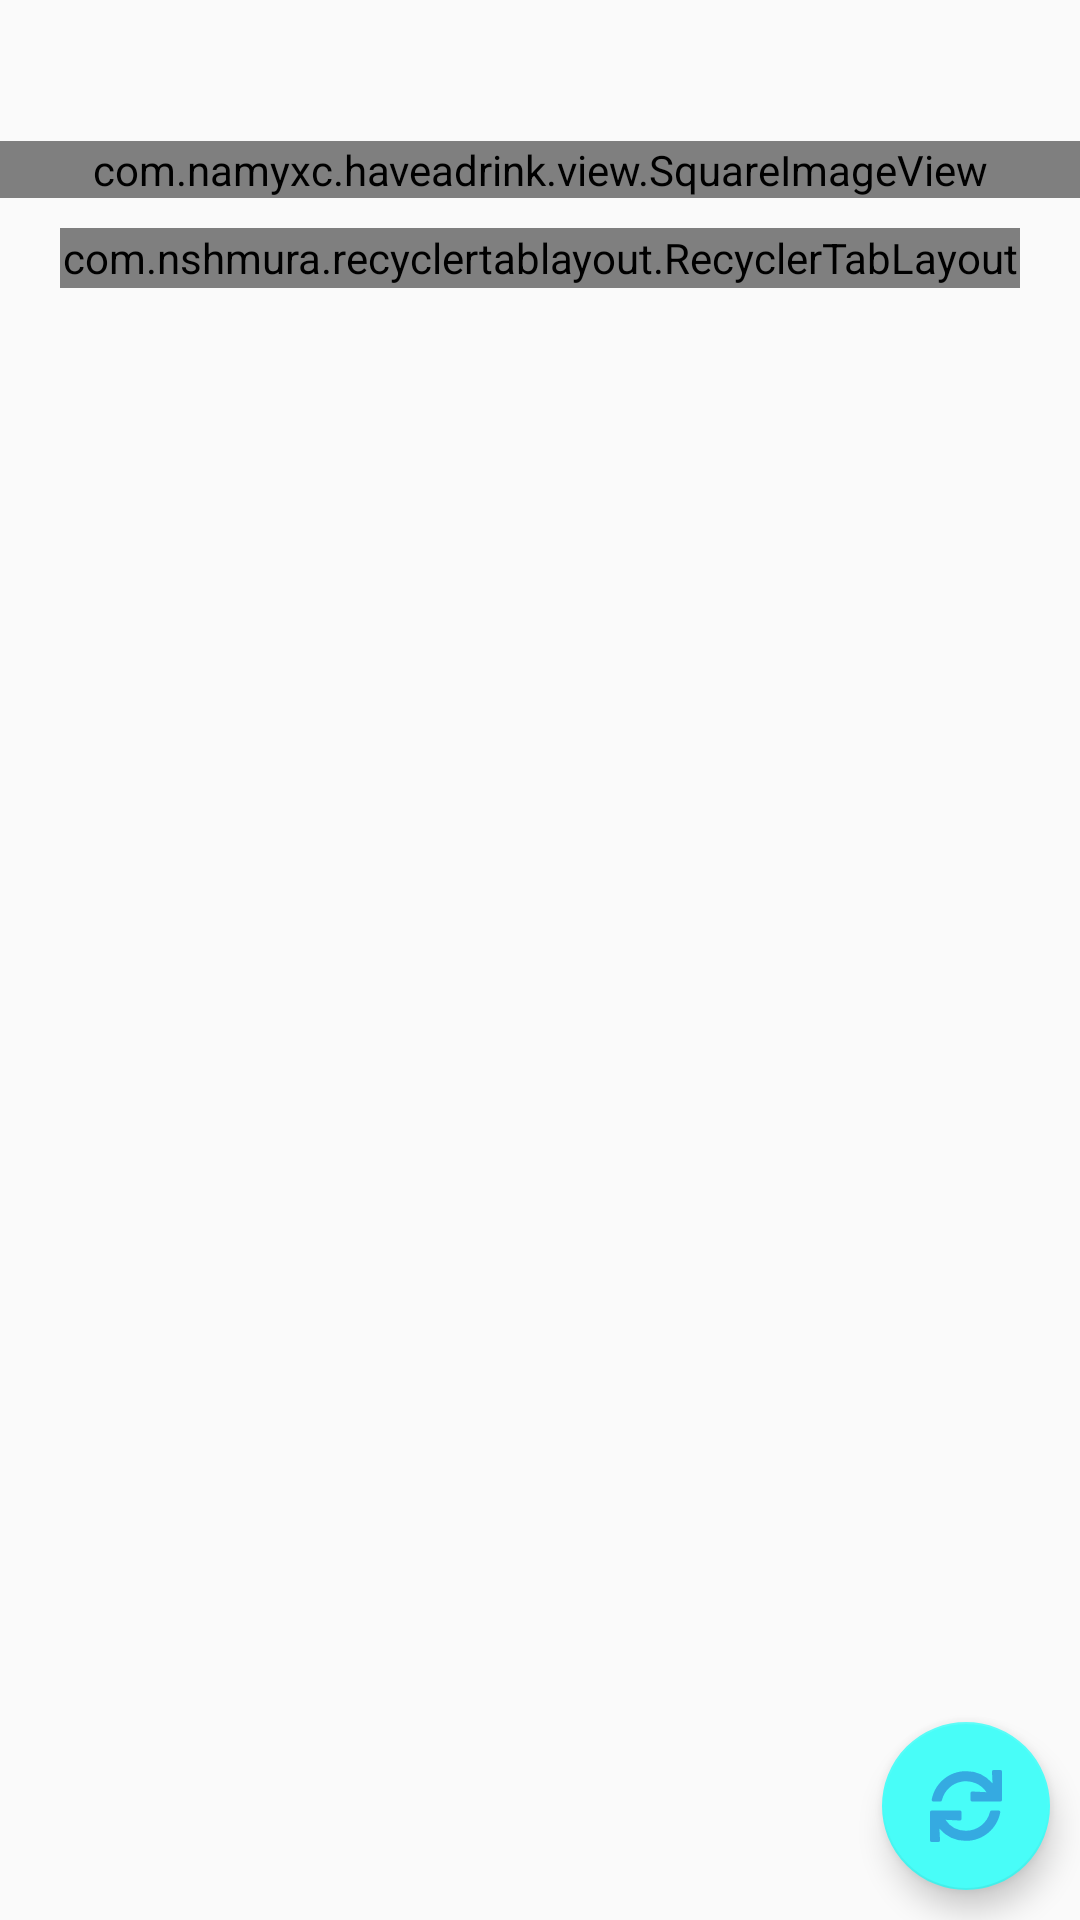

Screen size 1080×1920. Icon name, then its center in pixels as [x,y]:
Refresh: [966,1806]
